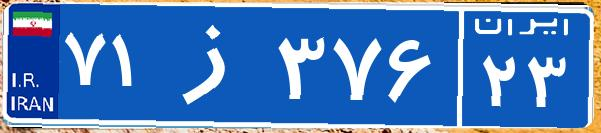1: (110, 28, 158, 105)
2: (475, 38, 525, 113)
3: (273, 28, 330, 110), (525, 38, 570, 115)
6: (385, 28, 445, 110)
7: (330, 28, 385, 110), (57, 26, 110, 107)
ز: (158, 15, 273, 115)
